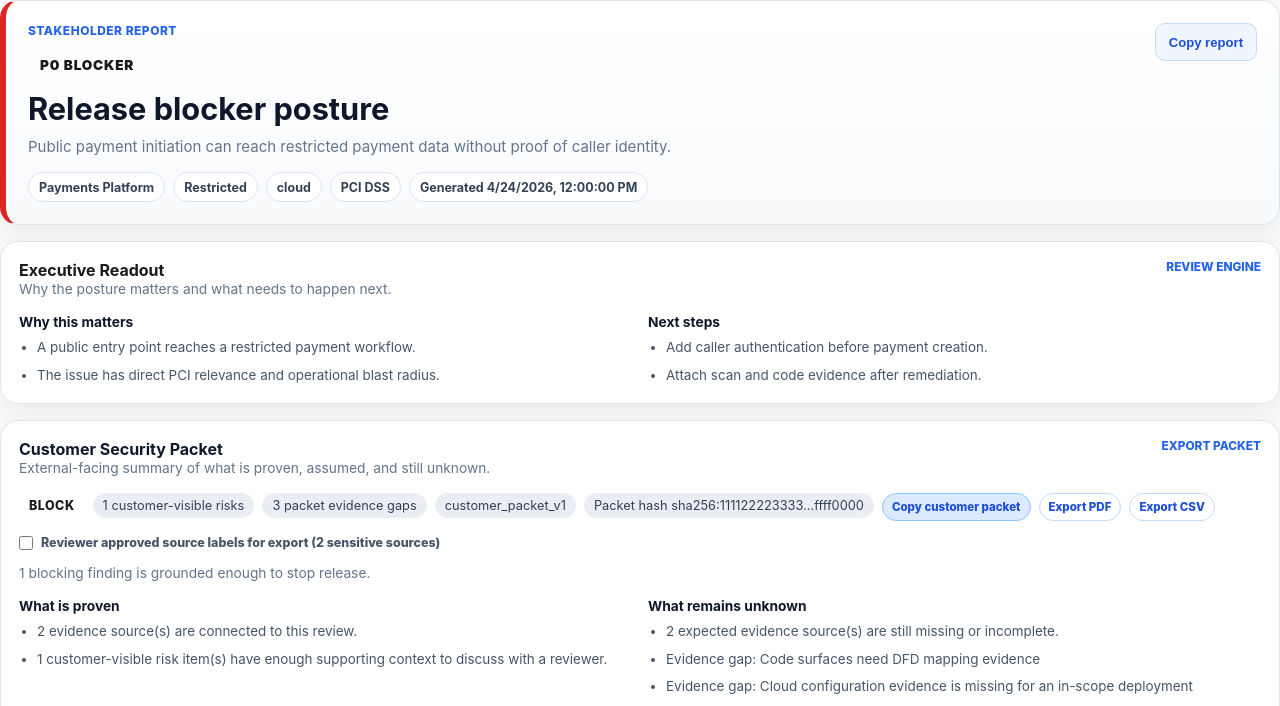
it: SecurityReviewReportPanel › copies a customer security packet export
This screenshot has width=1280, height=706.
Click the button "Copy customer packet" at (956, 507), box [882,493,1030,521]
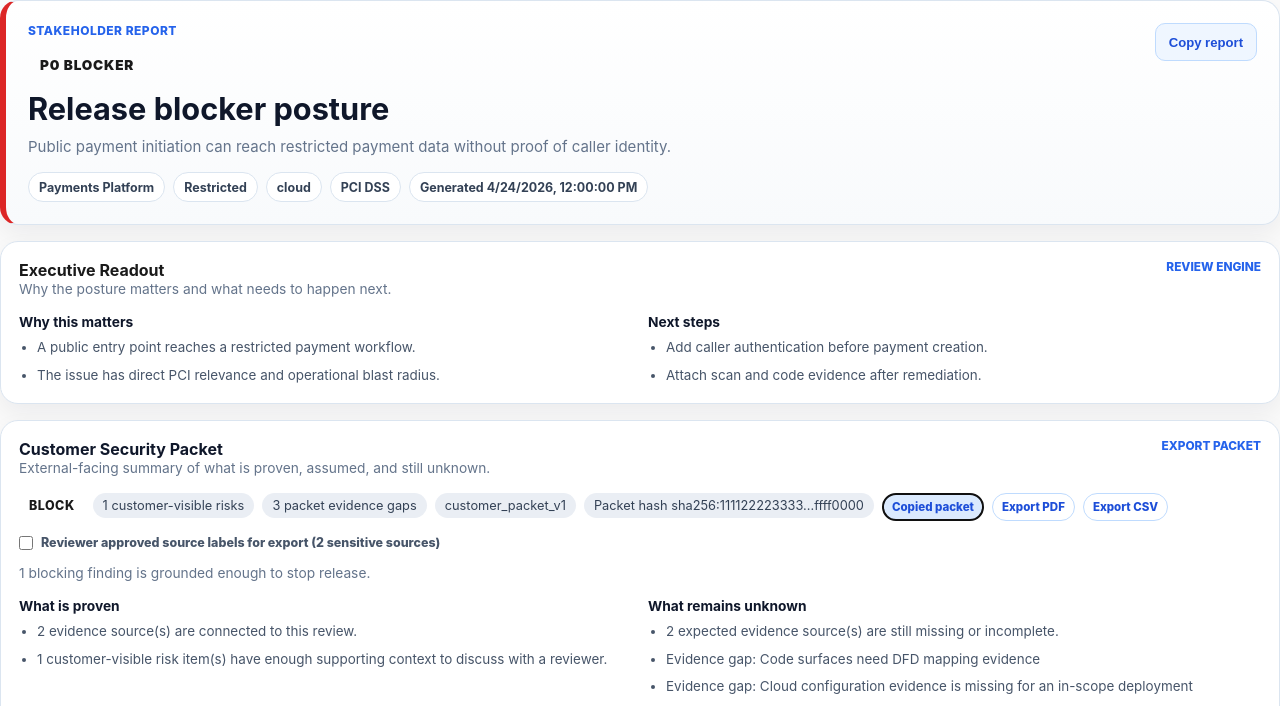
Expected: the button "Copied packet" is shown, [882,493,984,521]
